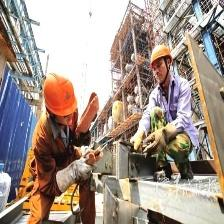Person: (24, 72, 92, 224), (143, 45, 197, 179)
helmet: (38, 73, 82, 115), (149, 43, 172, 68)
no-vest: (32, 123, 87, 193), (150, 82, 193, 140)
